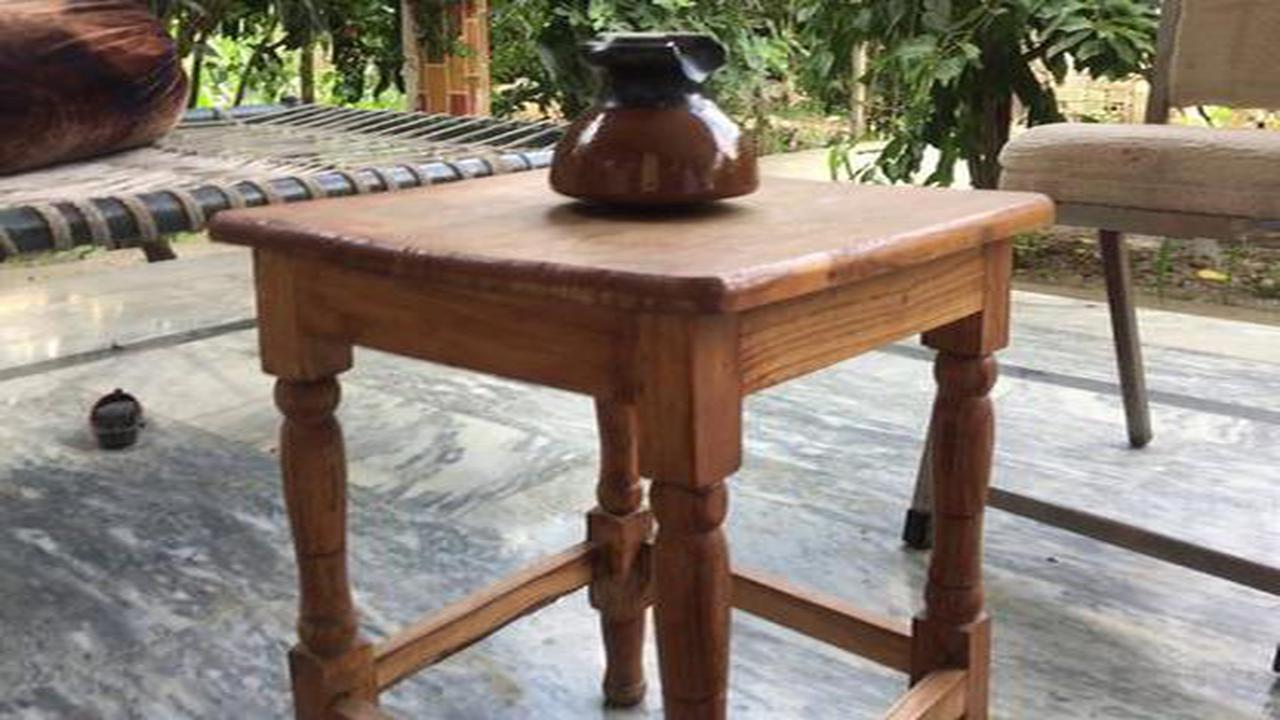insulator_pin: (539, 28, 776, 219)
